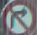Don't turn right: (1, 0, 36, 33)
